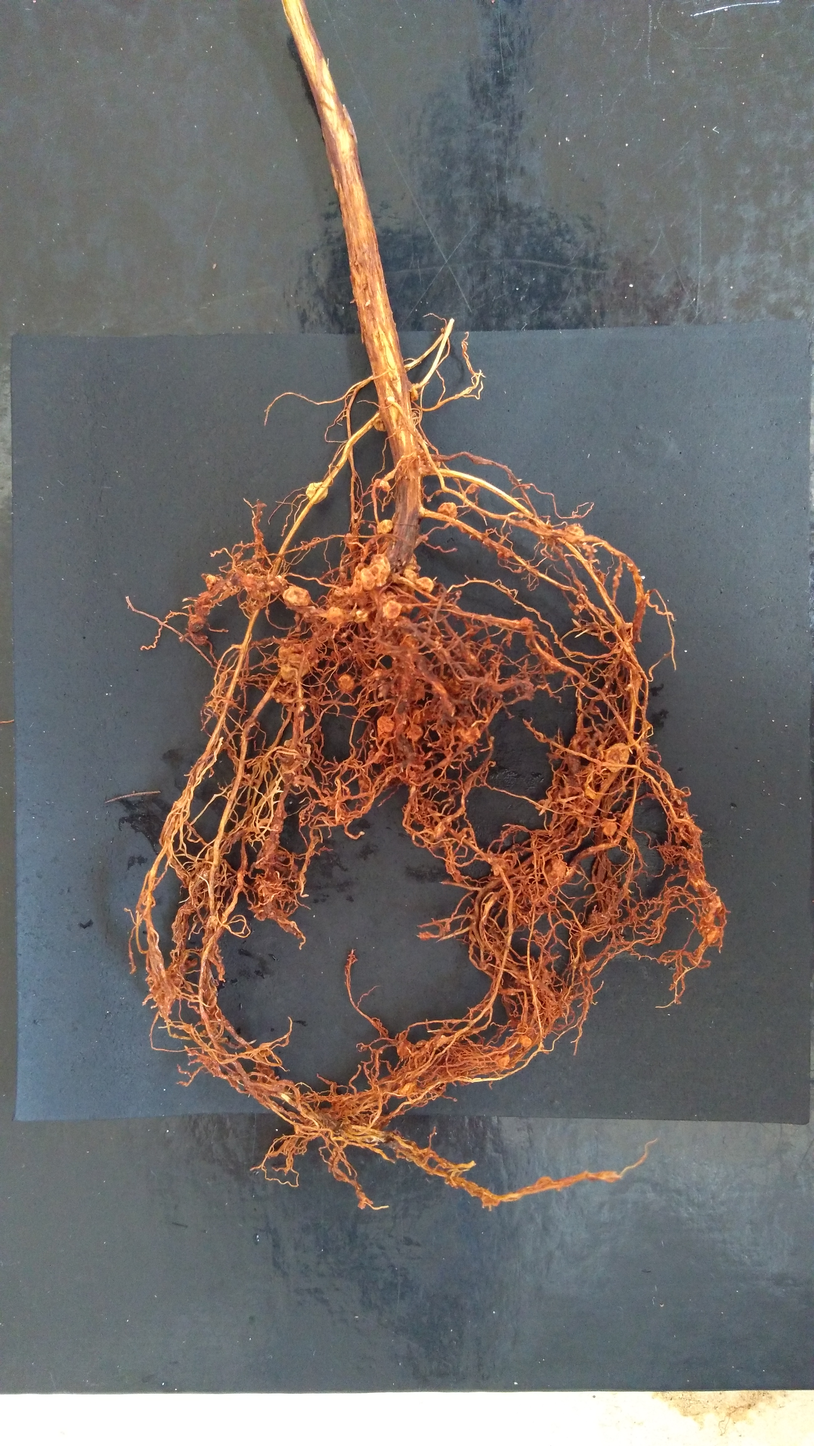nodule: (602, 741, 631, 774), (368, 553, 391, 588), (543, 856, 567, 886), (282, 585, 311, 607), (305, 481, 328, 505), (278, 638, 300, 663), (288, 653, 311, 675), (395, 1032, 412, 1058), (226, 566, 245, 589), (382, 599, 402, 620), (400, 634, 420, 655), (437, 501, 459, 520), (367, 745, 389, 764), (267, 574, 289, 593), (331, 584, 353, 603), (250, 581, 271, 600), (352, 562, 369, 585), (360, 567, 375, 593), (415, 576, 435, 595), (377, 715, 397, 734), (337, 672, 354, 694), (326, 605, 345, 624), (406, 723, 424, 743), (187, 615, 207, 633), (241, 572, 258, 592), (194, 597, 211, 616), (204, 574, 221, 593), (563, 524, 586, 538), (282, 663, 299, 680), (343, 532, 360, 549), (376, 519, 394, 535), (402, 569, 417, 587), (397, 1082, 415, 1097), (602, 821, 618, 837), (382, 590, 397, 605), (353, 610, 369, 624), (583, 782, 596, 799), (376, 727, 391, 740), (465, 482, 479, 495), (496, 1054, 511, 1066), (519, 1035, 532, 1048), (208, 914, 218, 930), (378, 480, 391, 492), (490, 864, 502, 877), (409, 388, 419, 402), (373, 421, 385, 432), (519, 616, 530, 628), (403, 602, 413, 614), (626, 838, 636, 849), (496, 551, 504, 559), (482, 538, 490, 546), (293, 614, 300, 622), (294, 625, 301, 633), (517, 513, 524, 519)
